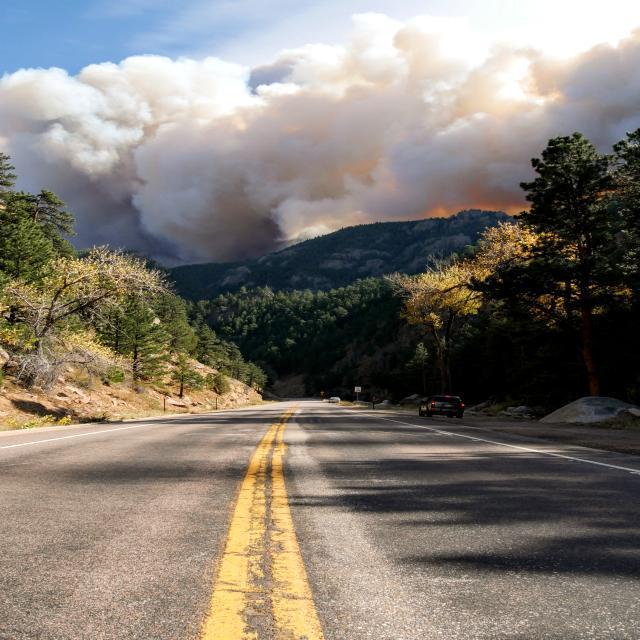Smoke: (29, 0, 626, 227)
